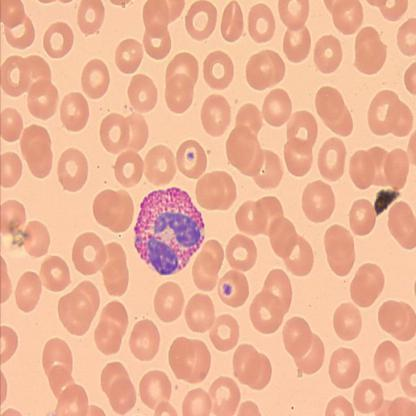Eosinophil: (132, 186, 205, 276)
